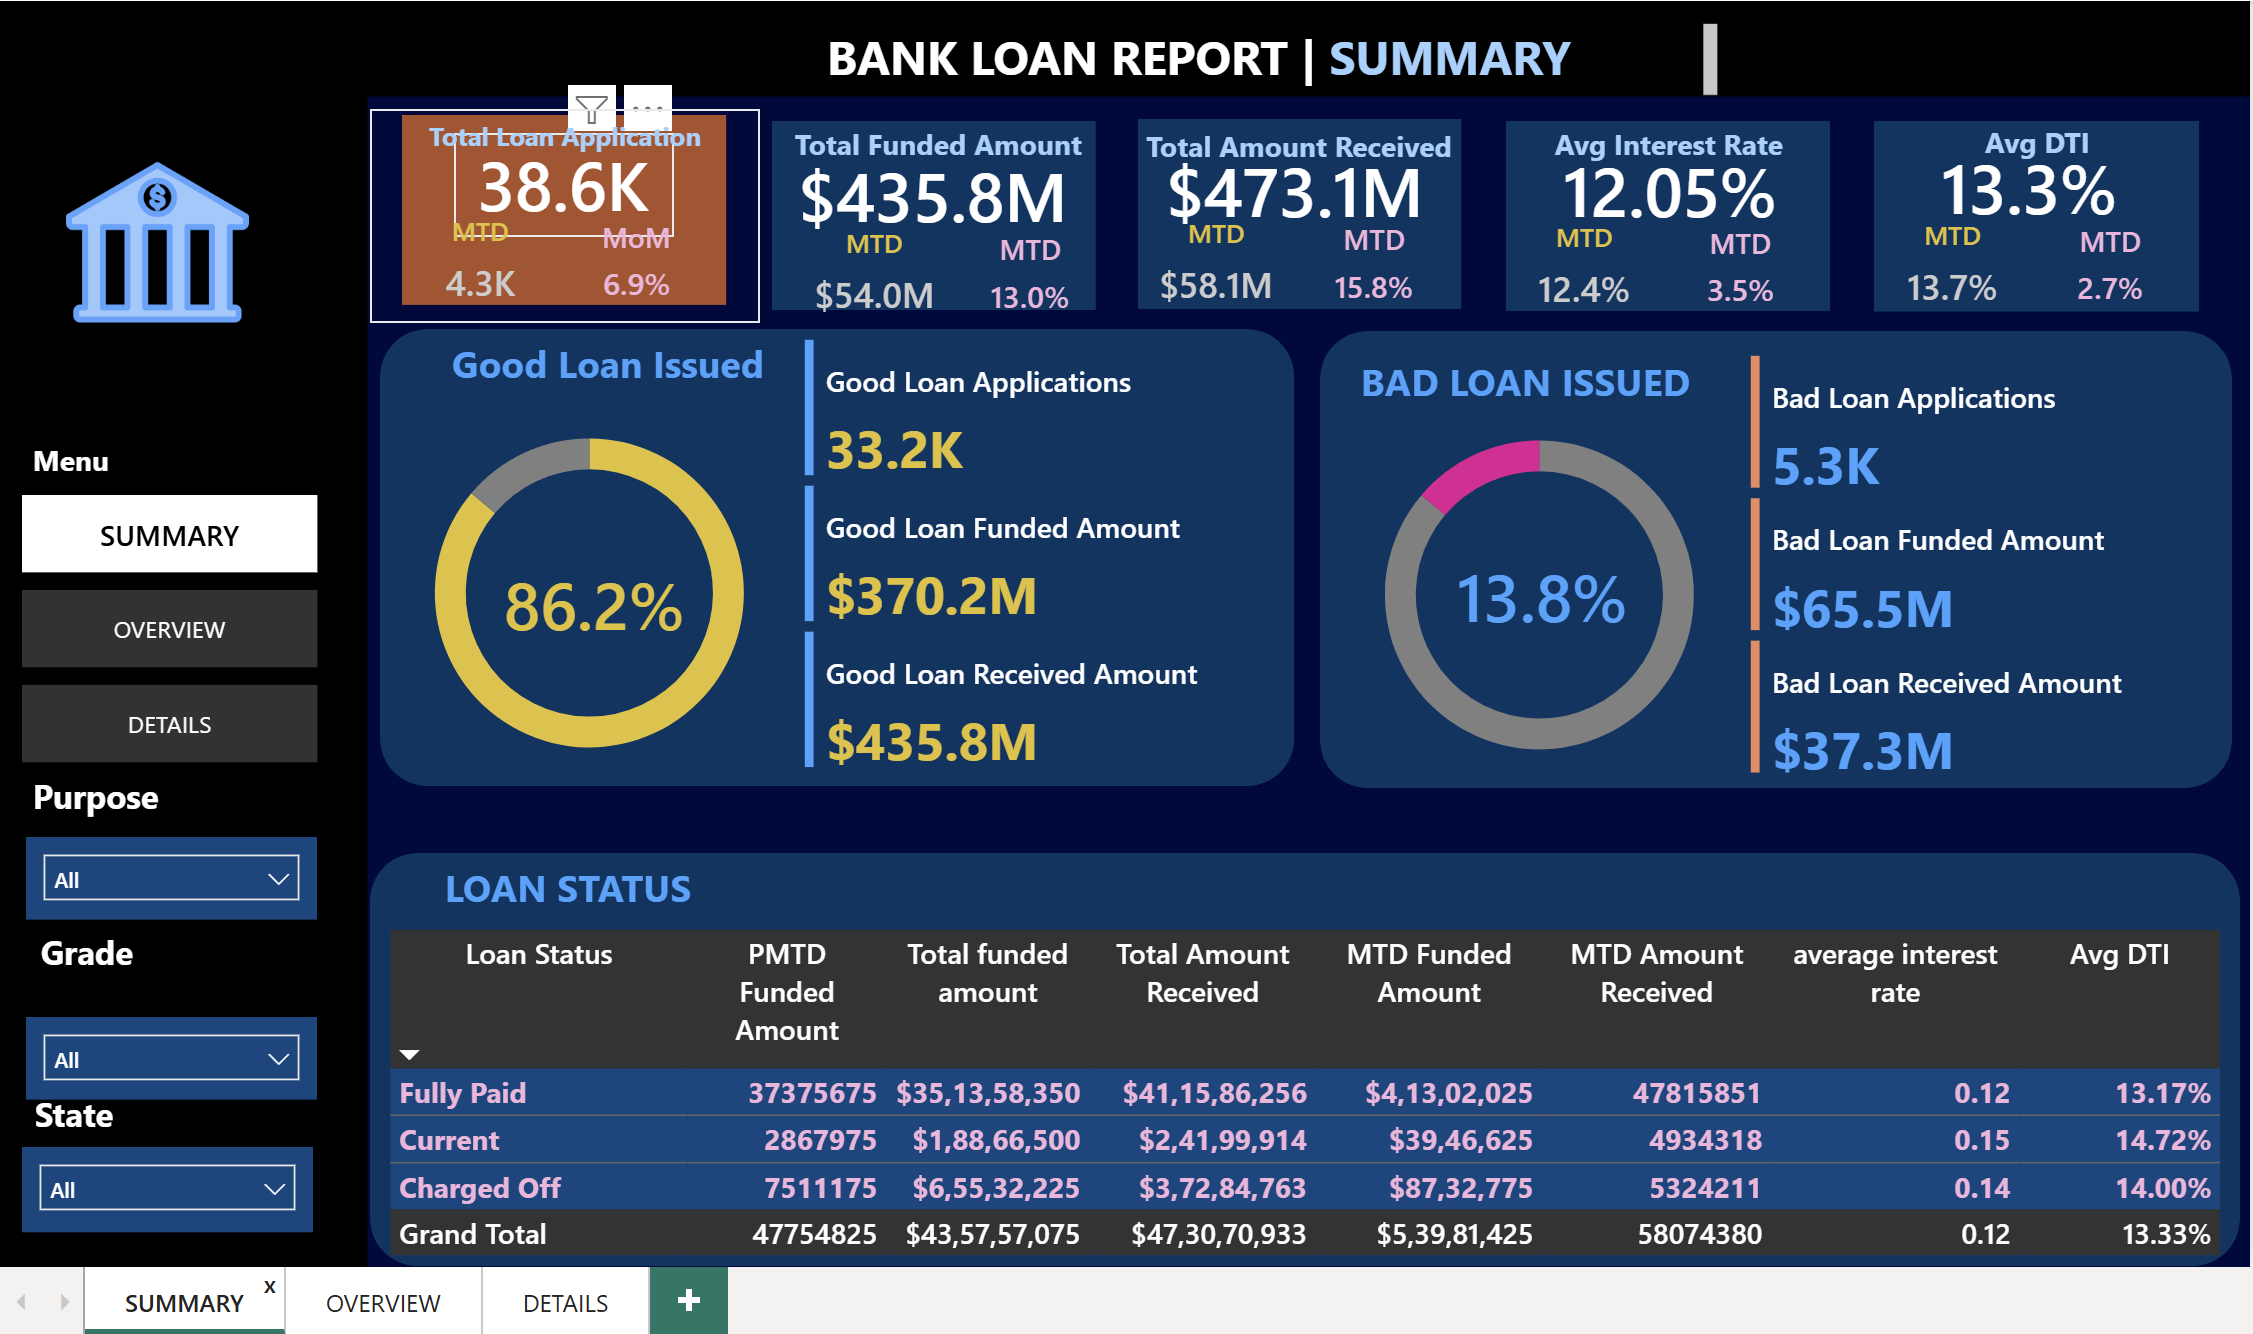

What the dashboard file says about the page in this screenshot:
{"tool":"powerbi","page":{"name":"SUMMARY","canvas":[1280,720],"ordinal":0},"visuals":[{"type":"shape","box":[0,53.5,209.1,666.8],"z":0},{"type":"shape","box":[228.5,65.1,184.5,108.1],"z":0,"group":"g1"},{"type":"shape","box":[647.4,66.5,184.2,108.2],"z":0,"group":"g2"},{"type":"shape","box":[438.5,67.9,184.4,107.6],"z":0,"group":"g3"},{"type":"shape","box":[856.7,68.1,184.4,108.1],"z":0,"group":"g4"},{"type":"shape","box":[1065.8,69.1,184.9,108.4],"z":0,"group":"g5"},{"type":"card","fields":{"Values":["financial_loan.Total Loan Applications"]},"box":[258.6,75.7,124.2,58.7],"z":1000,"group":"g1"},{"type":"card","fields":{"Values":["financial_loan.Avg Interest rate"]},"box":[879.9,79.1,141.5,56.1],"z":1000,"group":"g4"},{"type":"card","fields":{"Values":["financial_loan.Avg DTI"]},"box":[1089.1,79.3,131.6,55.2],"z":1000,"group":"g5"},{"type":"card","fields":{"Values":["financial_loan.Total Amount Received"]},"box":[653.6,80.2,164.5,53.5],"z":1000,"group":"g2"},{"type":"card","fields":{"Values":["financial_loan.Total funded amount"]},"box":[426.7,81.5,207.8,57.4],"z":1000,"group":"g3"},{"type":"shape","box":[216.6,186.3,520.5,260.2],"z":1000},{"type":"shape","box":[0,0,1280,54.3],"z":2000},{"type":"textbox","box":[210.4,61.6,221.8,31.7],"z":2000,"group":"g1"},{"type":"textbox","box":[1048,64,222.2,31.7],"z":2000,"group":"g5"},{"type":"textbox","box":[838.6,64.6,221.7,31.7],"z":2000,"group":"g4"},{"type":"textbox","box":[426.2,65,214.2,34.4],"z":2000,"group":"g3"},{"type":"textbox","box":[627.7,65.6,221.8,31.9],"z":2000,"group":"g2"},{"type":"card","title":"MTD","fields":{"Values":["financial_loan.MTD Loan Application"]},"box":[229.7,120.3,86.8,63.4],"z":3000,"group":"g1"},{"type":"card","title":"MTD","fields":{"Values":["financial_loan.MTD Total Amount Recieved"]},"box":[648.6,121.7,86.7,63.5],"z":3000,"group":"g2"},{"type":"card","title":"MTD","fields":{"Values":["financial_loan.MTD AvgE DTI"]},"box":[1067.3,122.7,86.9,63.4],"z":3000,"group":"g5"},{"type":"card","title":"MTD","fields":{"Values":["financial_loan.MTD Avg Interest rate"]},"box":[857.9,123.3,86.8,63.4],"z":3000,"group":"g4"},{"type":"card","title":"MTD","fields":{"Values":["financial_loan.MTD Funded Amount"]},"box":[453.4,127.1,86.8,63.2],"z":3000,"group":"g3"},{"type":"card","fields":{"Values":["financial_loan.Good Loan %"]},"box":[276.1,315.7,122.8,54.2],"z":3000},{"type":"textbox","box":[465.3,7.6,516.3,63.7],"z":4000},{"type":"card","title":"MoM","fields":{"Values":["financial_loan.MoM Loan Applications"]},"box":[318.9,122.7,86.8,58.7],"z":4000,"group":"g1"},{"type":"card","title":"MTD","fields":{"Values":["financial_loan.MoM Total Amount recieved"]},"box":[737.7,124.1,86.7,58.8],"z":4000,"group":"g2"},{"type":"card","title":"MTD","fields":{"Values":["financial_loan.MoM Avg DTI"]},"box":[1156.7,125.1,86.9,58.7],"z":4000,"group":"g5"},{"type":"card","title":"MTD","fields":{"Values":["financial_loan.MoM Avg interest"]},"box":[947,125.7,86.8,58.7],"z":4000,"group":"g4"},{"type":"card","title":"MTD","fields":{"Values":["financial_loan.MoM Total Funded Amount"]},"box":[542.5,129.4,86.8,58.5],"z":4000,"group":"g3"},{"type":"group","id":"g1","title":"Group 1","box":[210.4,61.6,222,122],"z":5000},{"type":"group","id":"g2","title":"Group 1","box":[627.7,65.6,221.8,119.7],"z":6000},{"type":"group","id":"g3","title":"Group 1","box":[426.2,65,214.2,125.3],"z":7000},{"type":"group","id":"g4","title":"Group 1","box":[838.6,64.6,221.7,122.2],"z":8000},{"type":"donutChart","fields":{"Category":["financial_loan.Good vs Bad loan "],"Y":["financial_loan.Total Loan Applications"]},"box":[210,221.9,249.7,229.8],"z":9000},{"type":"group","id":"g5","title":"Group 1","box":[1048,64,221.8,122.4],"z":10000},{"type":"shape","box":[750.3,187.6,519.1,260.2],"z":11000},{"type":"textbox","box":[210,186.3,270.8,40.9],"z":12000},{"type":"shape","box":[210,484.8,1063.4,235.1],"z":13000},{"type":"cardVisual","fields":{"Data":["financial_loan.Good Loan Applications","financial_loan.Good Loan Funded Amount","financial_loan.Good Loan Received Amount"]},"box":[453.1,187.6,268.2,254.9],"z":14000},{"type":"donutChart","fields":{"Category":["financial_loan.Good vs Bad loan "],"Y":["financial_loan.Total Loan Applications"]},"box":[750.3,223.2,249.7,229.8],"z":15000},{"type":"textbox","box":[768.8,196.8,240.4,52.8],"z":16000},{"type":"card","fields":{"Values":["financial_loan.Bad Loan %"]},"box":[815,311.7,122.8,54.2],"z":17000},{"type":"cardVisual","fields":{"Data":["financial_loan.Bad Loan Applications","financial_loan.Bad Loan Funded Amount","financial_loan.Bad Loan Received Amount"]},"box":[990.7,196.8,260.2,249.7],"z":18000},{"type":"tableEx","fields":{"Values":["financial_loan.loan_status","financial_loan.PMTD Total Funded Amount","financial_loan.Total funded amount","financial_loan.Total Amount Received","financial_loan.MTD Funded Amount","financial_loan.MTD Amount Received","financial_loan.average interest rate","financial_loan.Avg DTI"]},"box":[216.6,523.1,1056.8,195.5],"z":19000},{"type":"textbox","box":[248.3,484.8,173,38.3],"z":20000},{"type":"slicer","fields":{"Values":["financial_loan.purpose"]},"box":[15.3,475.5,165.7,47.2],"z":21000},{"type":"textbox","box":[14,434.7,102,34.4],"z":22000},{"type":"slicer","fields":{"Values":["financial_loan.grade"]},"box":[15.3,577.5,165.7,47.2],"z":23000},{"type":"textbox","box":[15.3,615.8,102,35.7],"z":24000},{"type":"slicer","fields":{"Values":["financial_loan.address_state"]},"box":[12.7,651.5,165.7,48.4],"z":25000},{"type":"textbox","box":[17.8,522.7,88,34.4],"z":26000},{"type":"pageNavigator","box":[12.7,280.5,168.3,154.3],"z":27000},{"type":"textbox","box":[14,244.8,159.4,35.7],"z":28000},{"type":"image","box":[15.3,79,149.2,117.3],"z":29000}]}

Visuals, with their boxes on the page's 1280x720 design canvas (x1, y1, x2, y2). These are canvas units, not pixel positions in the 2253x1334 screenshot, which may show the page scaled, cropped or inside an application window:
shape: detection(0, 54, 209, 720)
shape: detection(228, 65, 413, 173)
shape: detection(647, 66, 832, 175)
shape: detection(438, 68, 623, 176)
shape: detection(857, 68, 1041, 176)
shape: detection(1066, 69, 1251, 178)
card - financial_loan.Total Loan Applications: detection(259, 76, 383, 134)
card - financial_loan.Avg Interest rate: detection(880, 79, 1021, 135)
card - financial_loan.Avg DTI: detection(1089, 79, 1221, 134)
card - financial_loan.Total Amount Received: detection(654, 80, 818, 134)
card - financial_loan.Total funded amount: detection(427, 82, 634, 139)
shape: detection(217, 186, 737, 446)
shape: detection(0, 0, 1280, 54)
textbox: detection(210, 62, 432, 93)
textbox: detection(1048, 64, 1270, 96)
textbox: detection(839, 65, 1060, 96)
textbox: detection(426, 65, 640, 99)
textbox: detection(628, 66, 850, 98)
"MTD" card: detection(230, 120, 316, 184)
"MTD" card: detection(649, 122, 735, 185)
"MTD" card: detection(1067, 123, 1154, 186)
"MTD" card: detection(858, 123, 945, 187)
"MTD" card: detection(453, 127, 540, 190)
card - financial_loan.Good Loan %: detection(276, 316, 399, 370)
textbox: detection(465, 8, 982, 71)
"MoM" card: detection(319, 123, 406, 181)
"MTD" card: detection(738, 124, 824, 183)
"MTD" card: detection(1157, 125, 1244, 184)
"MTD" card: detection(947, 126, 1034, 184)
"MTD" card: detection(542, 129, 629, 188)
"Group 1" group: detection(210, 62, 432, 184)
"Group 1" group: detection(628, 66, 850, 185)
"Group 1" group: detection(426, 65, 640, 190)
"Group 1" group: detection(839, 65, 1060, 187)
donutChart - financial_loan.Good vs Bad loan  x financial_loan.Total Loan Applications: detection(210, 222, 460, 452)
"Group 1" group: detection(1048, 64, 1270, 186)
shape: detection(750, 188, 1269, 448)
textbox: detection(210, 186, 481, 227)
shape: detection(210, 485, 1273, 720)
cardVisual - financial_loan.Good Loan Applications x financial_loan.Good Loan Funded Amount: detection(453, 188, 721, 442)
donutChart - financial_loan.Good vs Bad loan  x financial_loan.Total Loan Applications: detection(750, 223, 1000, 453)
textbox: detection(769, 197, 1009, 250)
card - financial_loan.Bad Loan %: detection(815, 312, 938, 366)
cardVisual - financial_loan.Bad Loan Applications x financial_loan.Bad Loan Funded Amount: detection(991, 197, 1251, 446)
tableEx - financial_loan.loan_status x financial_loan.PMTD Total Funded Amount: detection(217, 523, 1273, 719)
textbox: detection(248, 485, 421, 523)
slicer - financial_loan.purpose: detection(15, 476, 181, 523)
textbox: detection(14, 435, 116, 469)
slicer - financial_loan.grade: detection(15, 578, 181, 625)
textbox: detection(15, 616, 117, 652)
slicer - financial_loan.address_state: detection(13, 652, 178, 700)
textbox: detection(18, 523, 106, 557)
pageNavigator: detection(13, 280, 181, 435)
textbox: detection(14, 245, 173, 280)
image: detection(15, 79, 164, 196)
